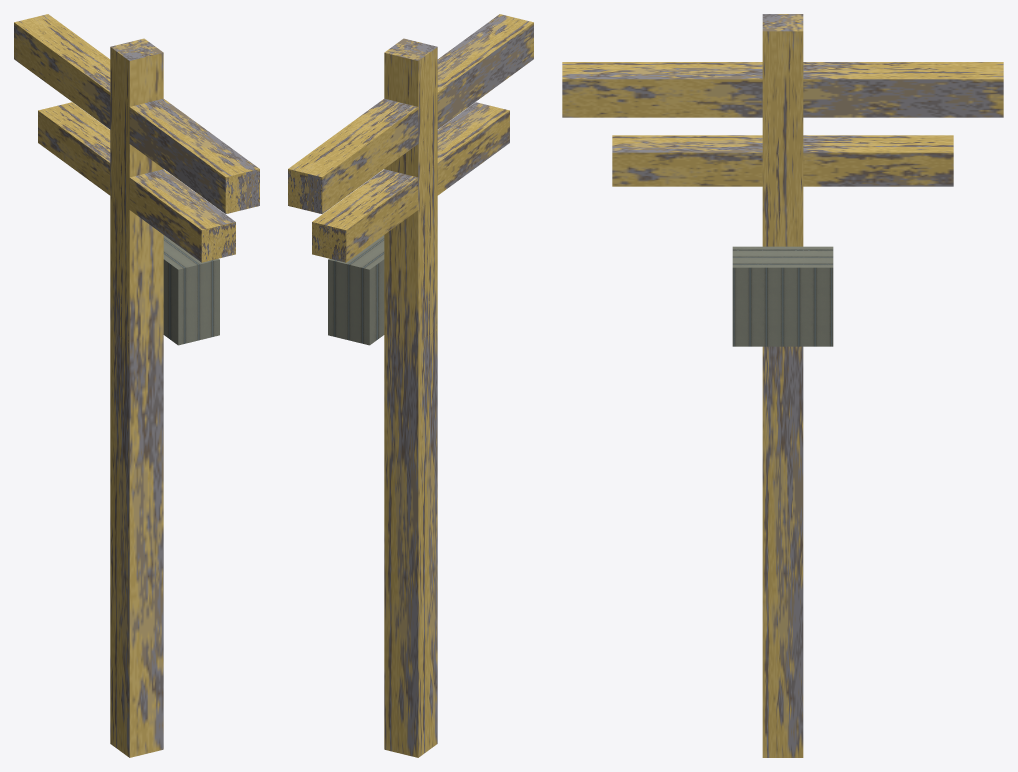
Rendered from Posteluz.fbx.
3 renders of one model, left to right at view 1: azimuth 30°, elevation 25°; view 2: azimuth 150°, elevation 25°; view 3: azimuth 270°, elevation 25°, orthographic. The views are drawn at different scales.
Parts seen in each view (by area): view 1: Cube.001; view 2: Cube.001; view 3: Cube.001.
Part boxes in pixels (<box>): Cube.001: <box>14,14,259,757</box>; Cube.001: <box>288,14,533,757</box>; Cube.001: <box>562,14,1003,757</box>.
Size of the model in its own units: 91.02 by 800 by 441.
Materials: 2 (2 with a texture image).
